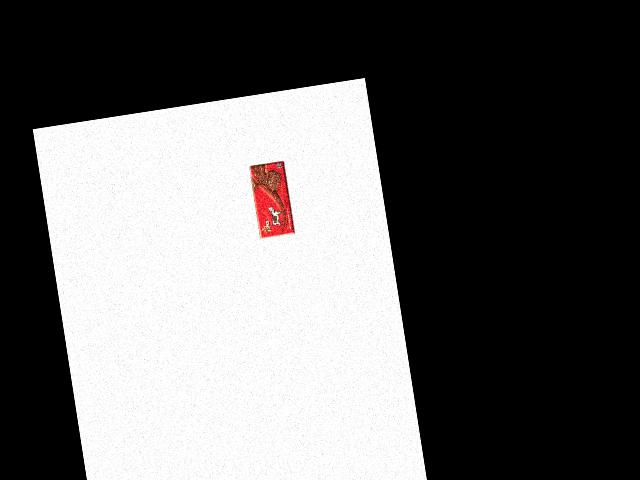chocolate: (241, 159, 288, 233)
